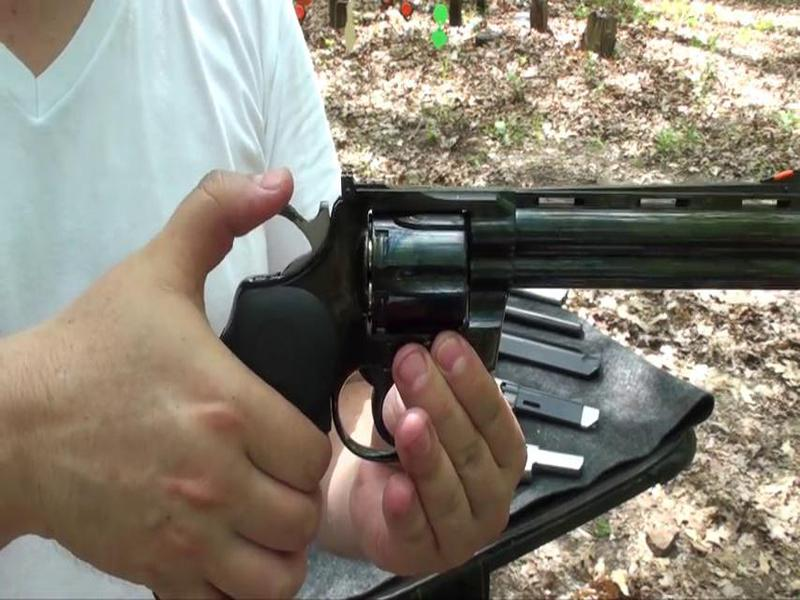Revolver: (235, 142, 800, 453)
